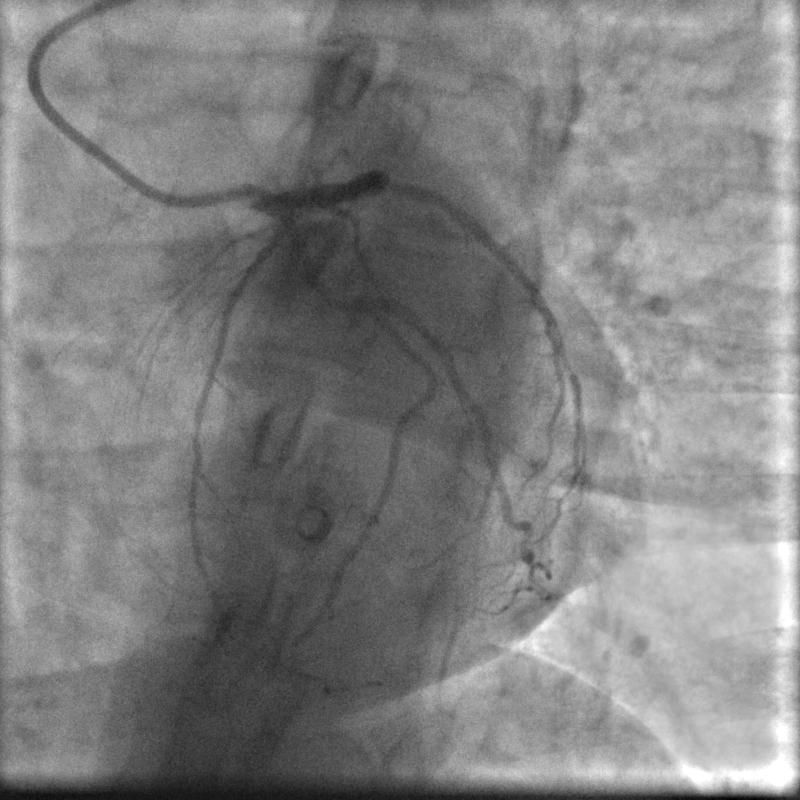Stenosis: (317, 273, 356, 322)
